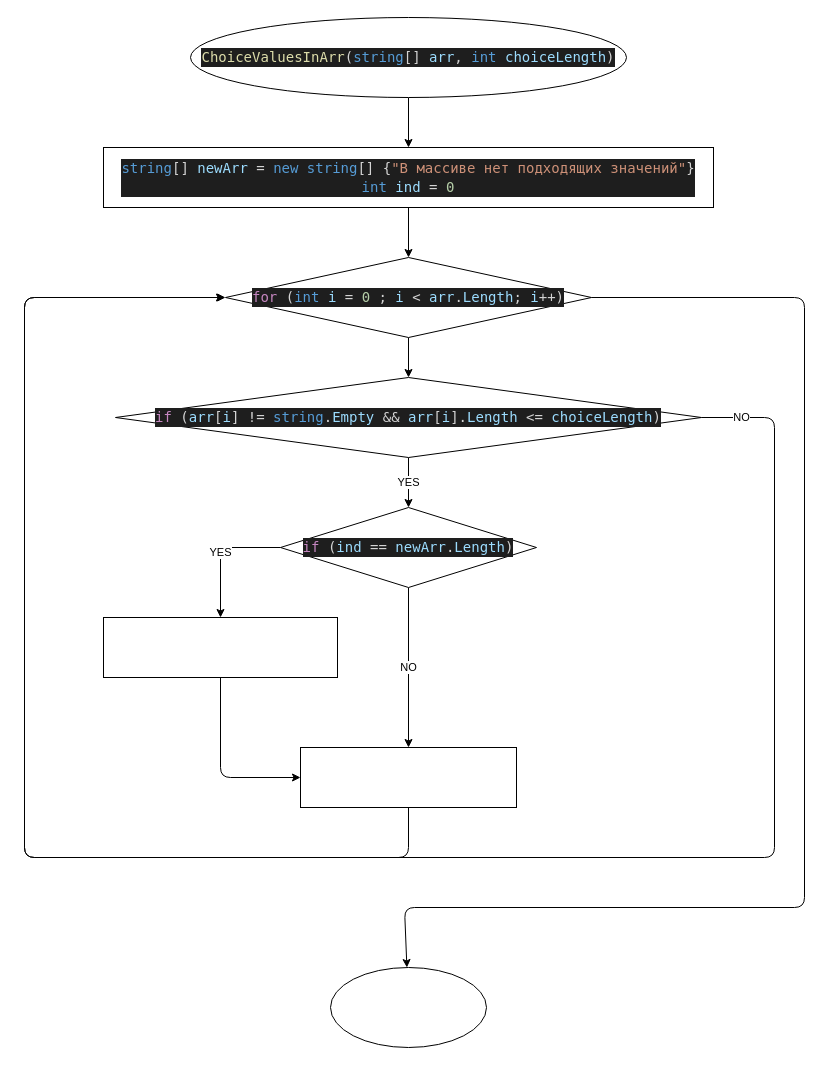
Image size: 830x1065. Some labels were removed from this diagram. Here are the shapes that lost their labels. From the top down, the box of each, then its label:
(102, 616, 338, 678): newArr = GrowArr ( newArr )
(300, 746, 516, 808): newArr [ ind ] = arr [ i ] ind ++
(330, 966, 486, 1048): return newArr
